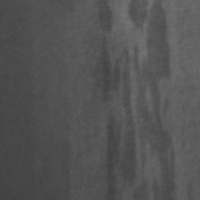inclusion: (94, 0, 182, 196)
